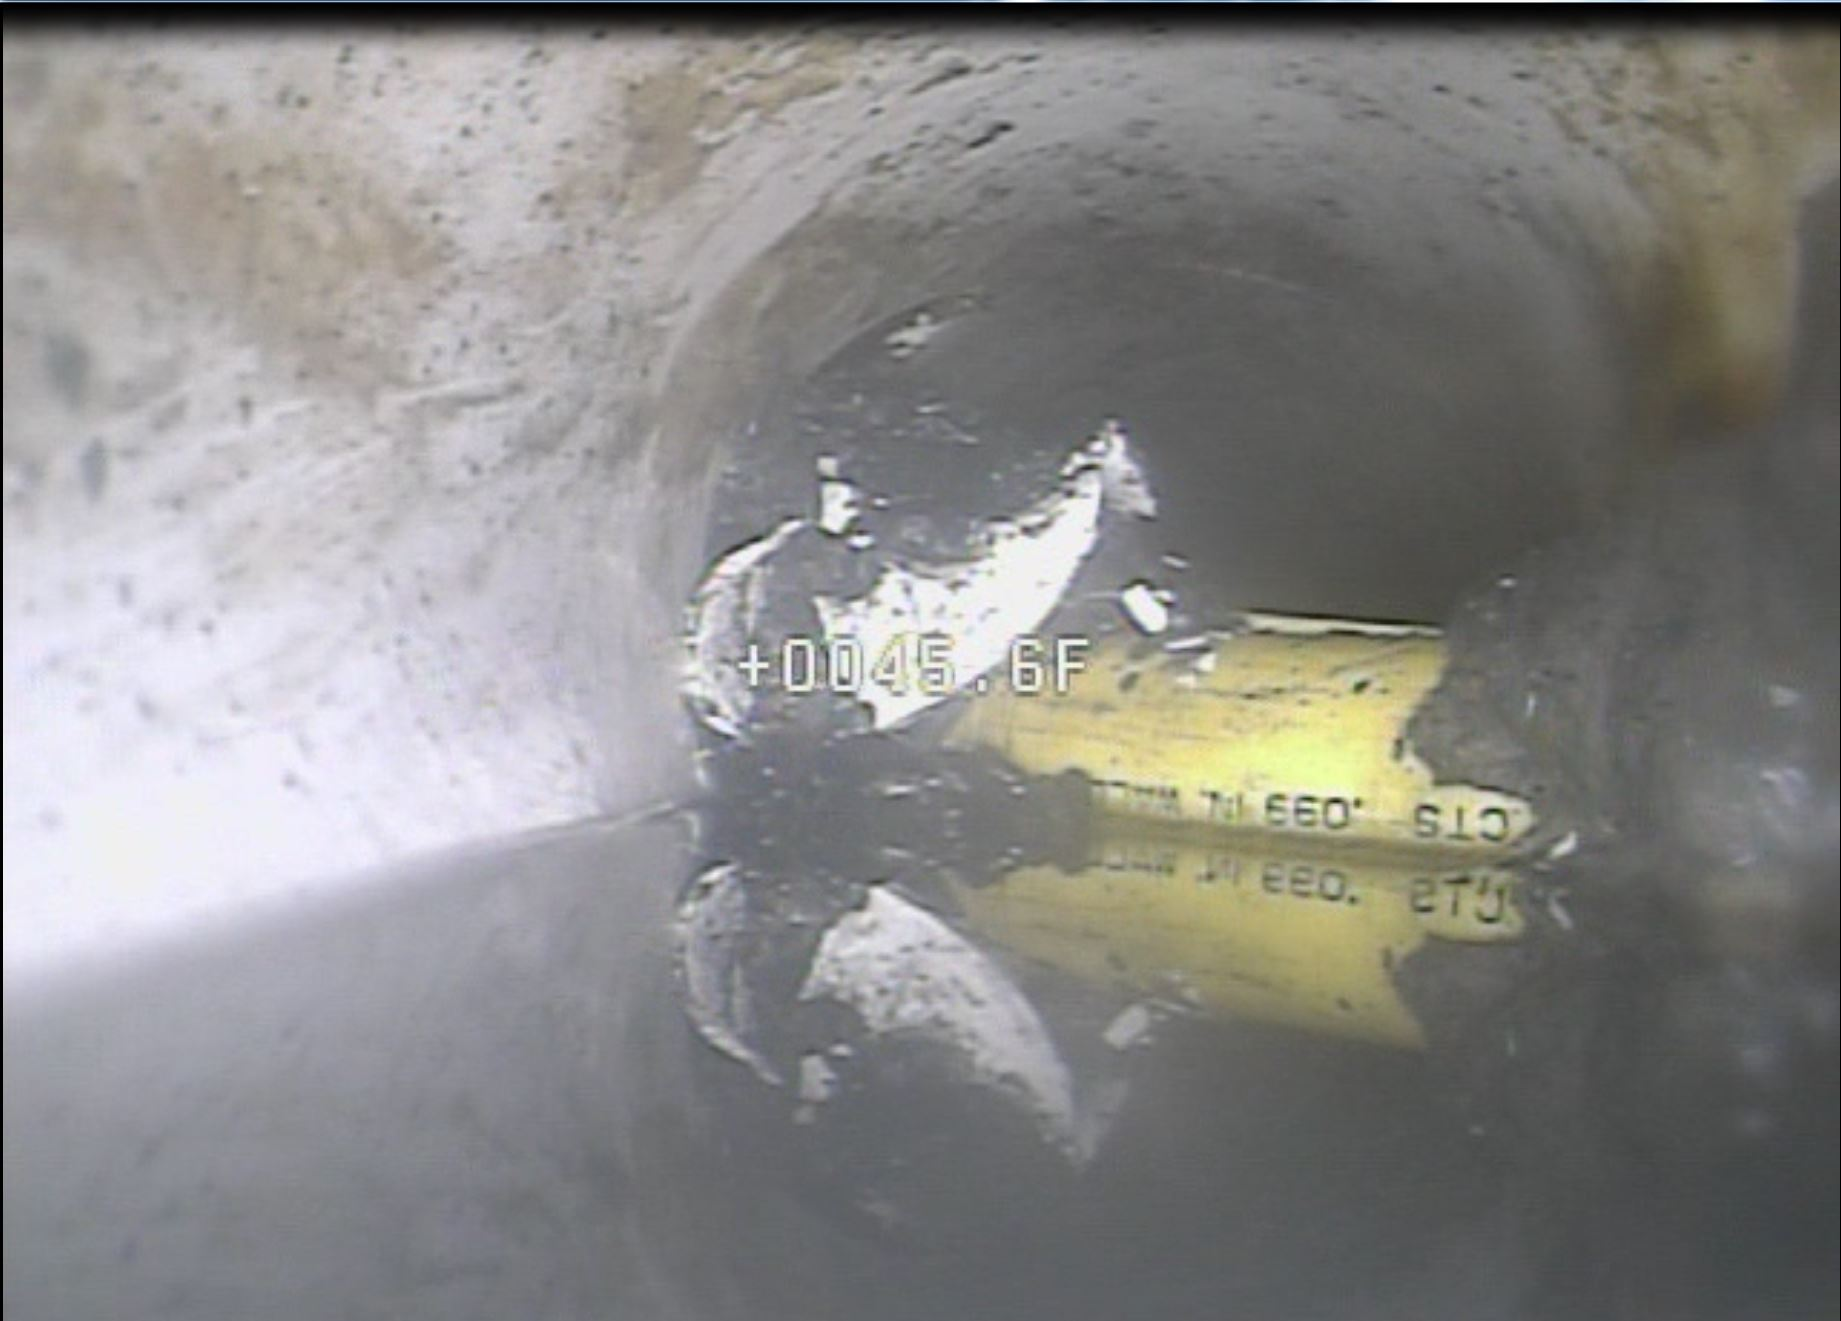cb: (878, 569, 1634, 854)
